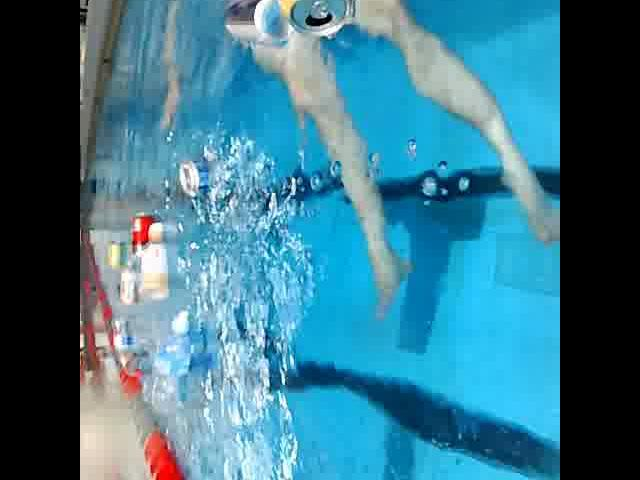Bottle: (150, 303, 196, 421), (138, 215, 174, 311), (112, 246, 142, 312)
Can: (261, 0, 358, 46), (218, 0, 296, 50), (174, 156, 230, 196), (125, 207, 161, 264), (104, 241, 128, 272)
